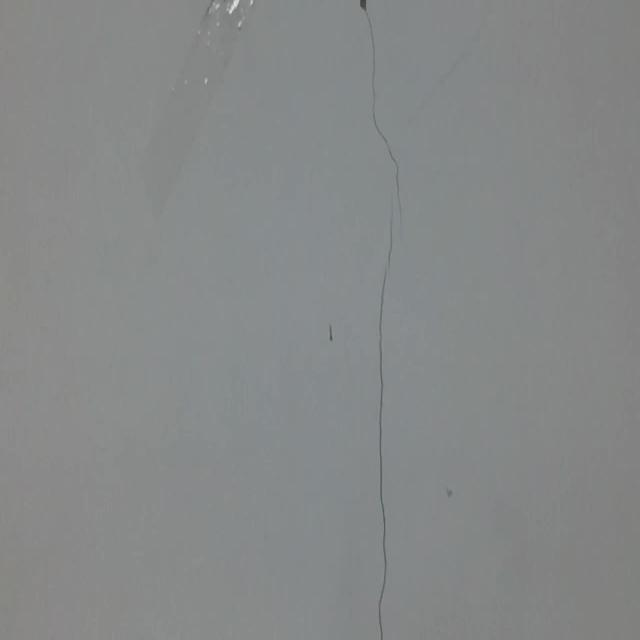Crack: (352, 0, 408, 640)
